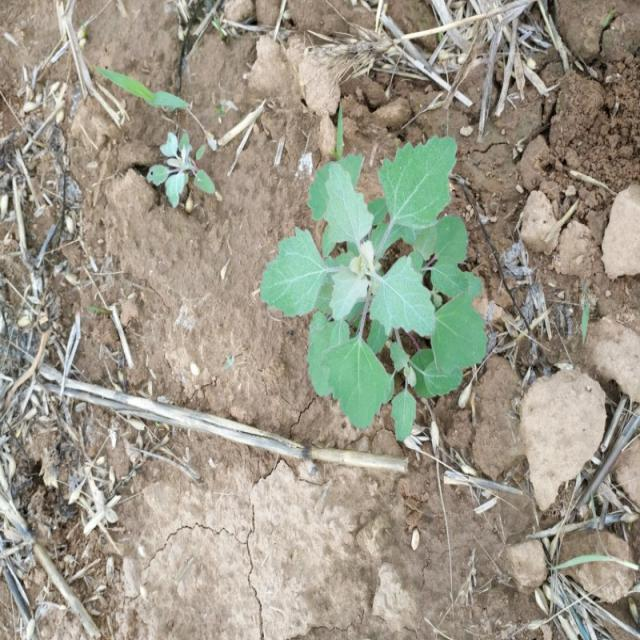goosefoots: (265, 131, 502, 430)
